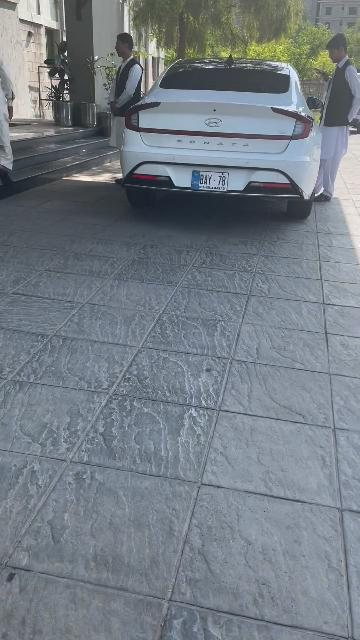plate: (188, 167, 228, 193)
